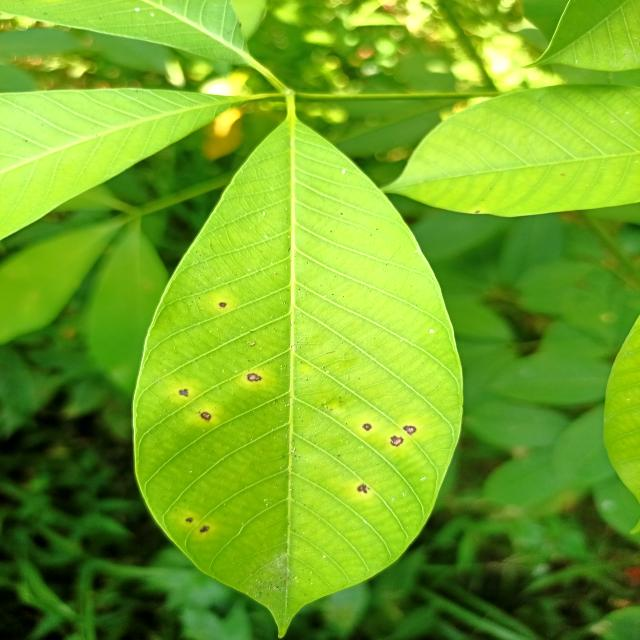Colletotrichum: (390, 435, 404, 447), (247, 373, 262, 382), (403, 425, 416, 435), (201, 412, 211, 420), (178, 389, 188, 397), (356, 484, 366, 492), (199, 526, 210, 533), (363, 423, 371, 431), (186, 517, 193, 523), (220, 302, 227, 308)
